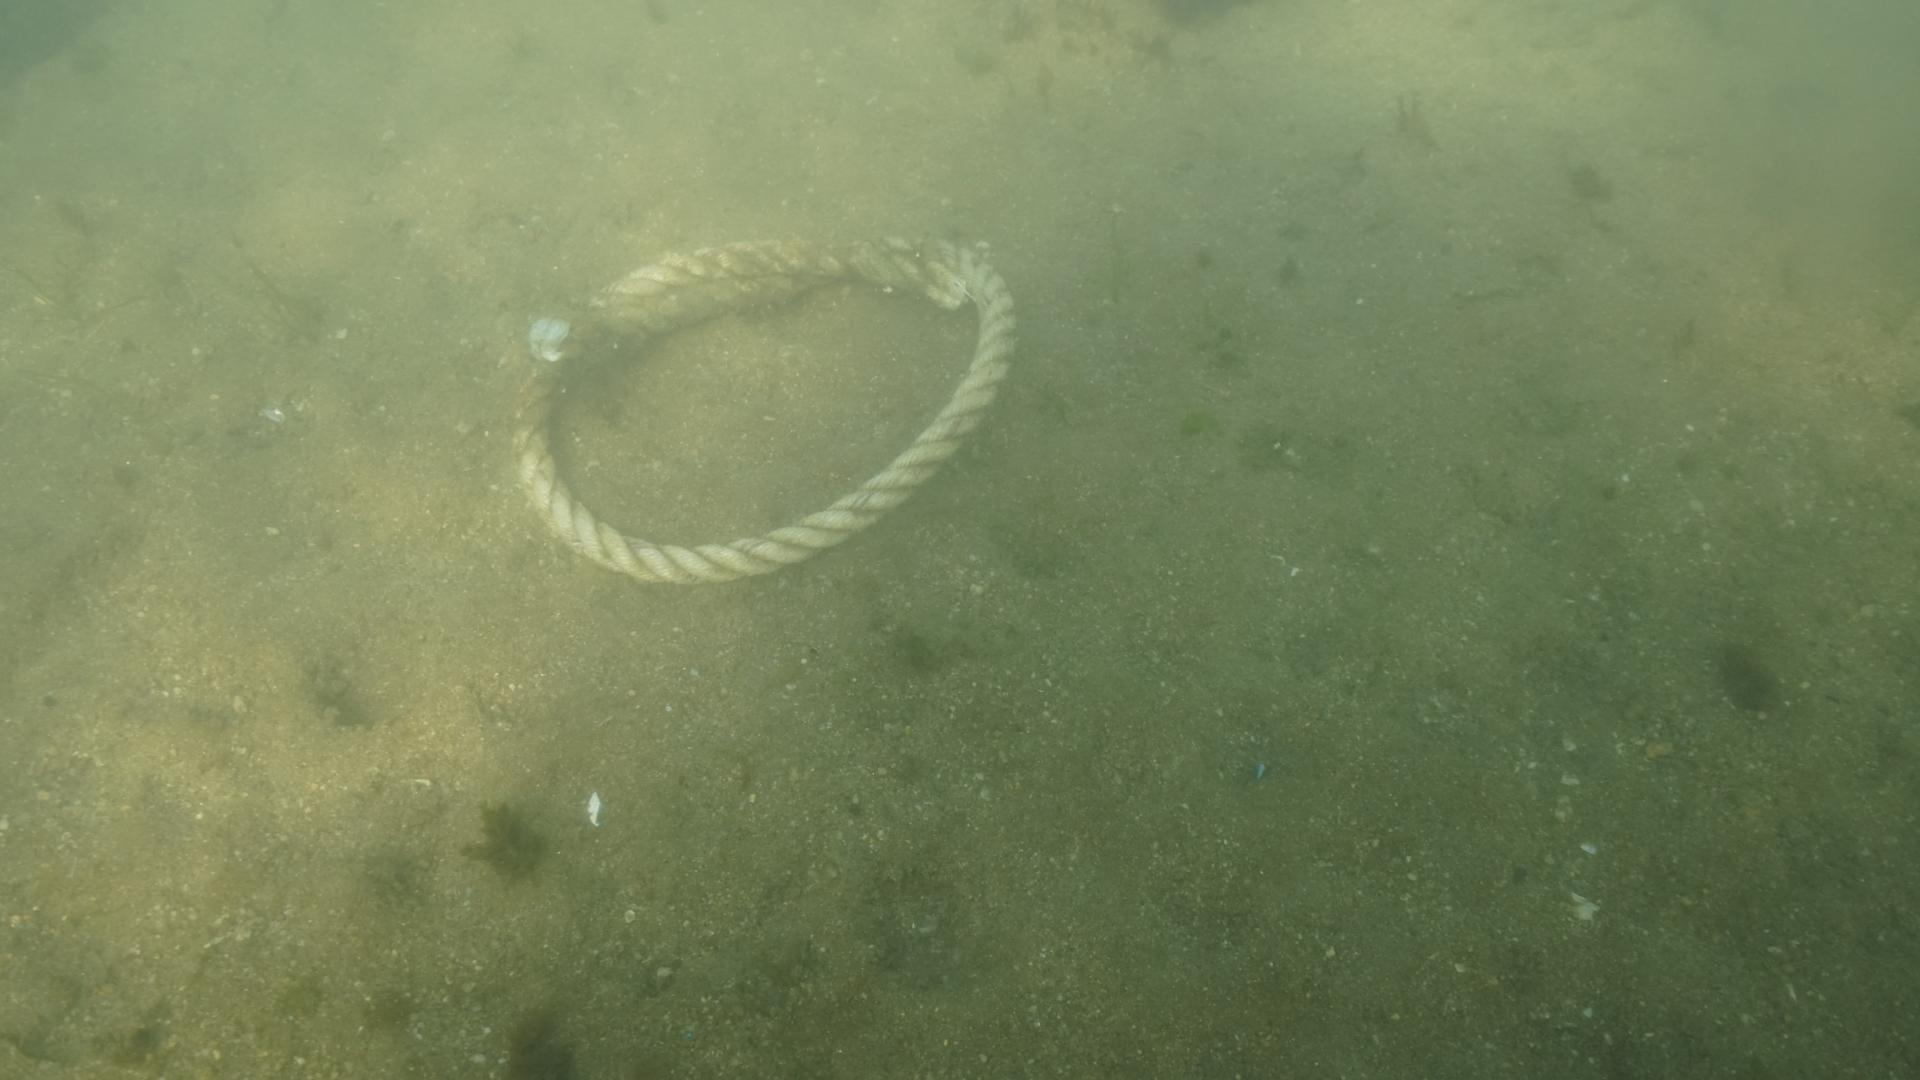bundle of ropes: (505, 228, 1017, 588)
